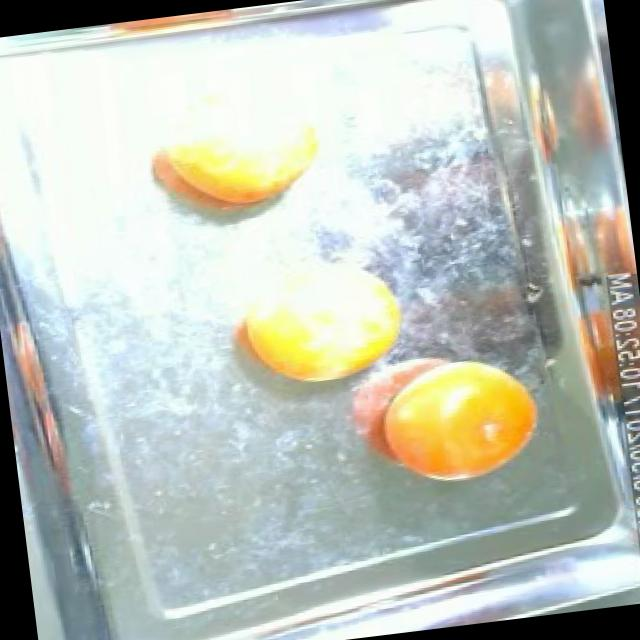Fruit: (352, 334, 556, 502)
